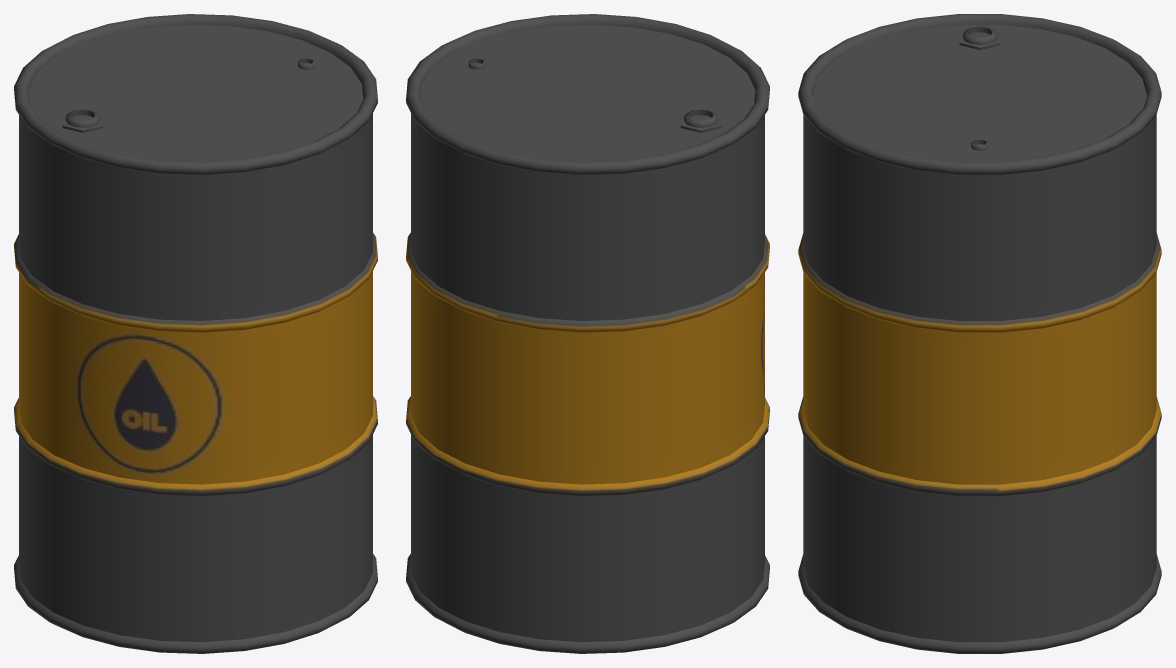
File: crude_oil_barrel.glb
3 views of the same model, side by side, from view 1: azimuth 30°, elevation 25°; view 2: azimuth 150°, elevation 25°; view 3: azimuth 270°, elevation 25° (orthographic).
Visible parts, largest first — view 1: barile_low; view 2: barile_low; view 3: barile_low.
Boxes of the visible parts, bbox=[...] form: barile_low: bbox=[14, 14, 377, 653]; barile_low: bbox=[406, 14, 769, 653]; barile_low: bbox=[798, 14, 1161, 653].
Bounding box in the file's own units: 0.57 × 0.8516 × 0.57.
Materials: 1 (1 with a texture image).
